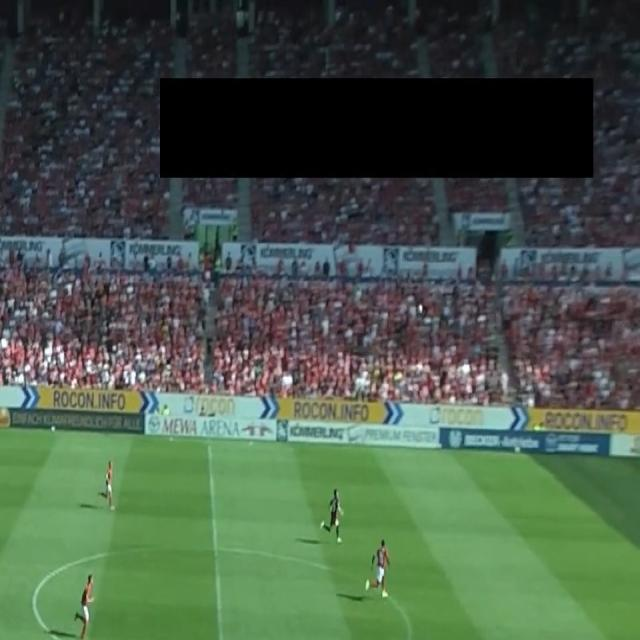ball: (417, 303, 423, 313)
